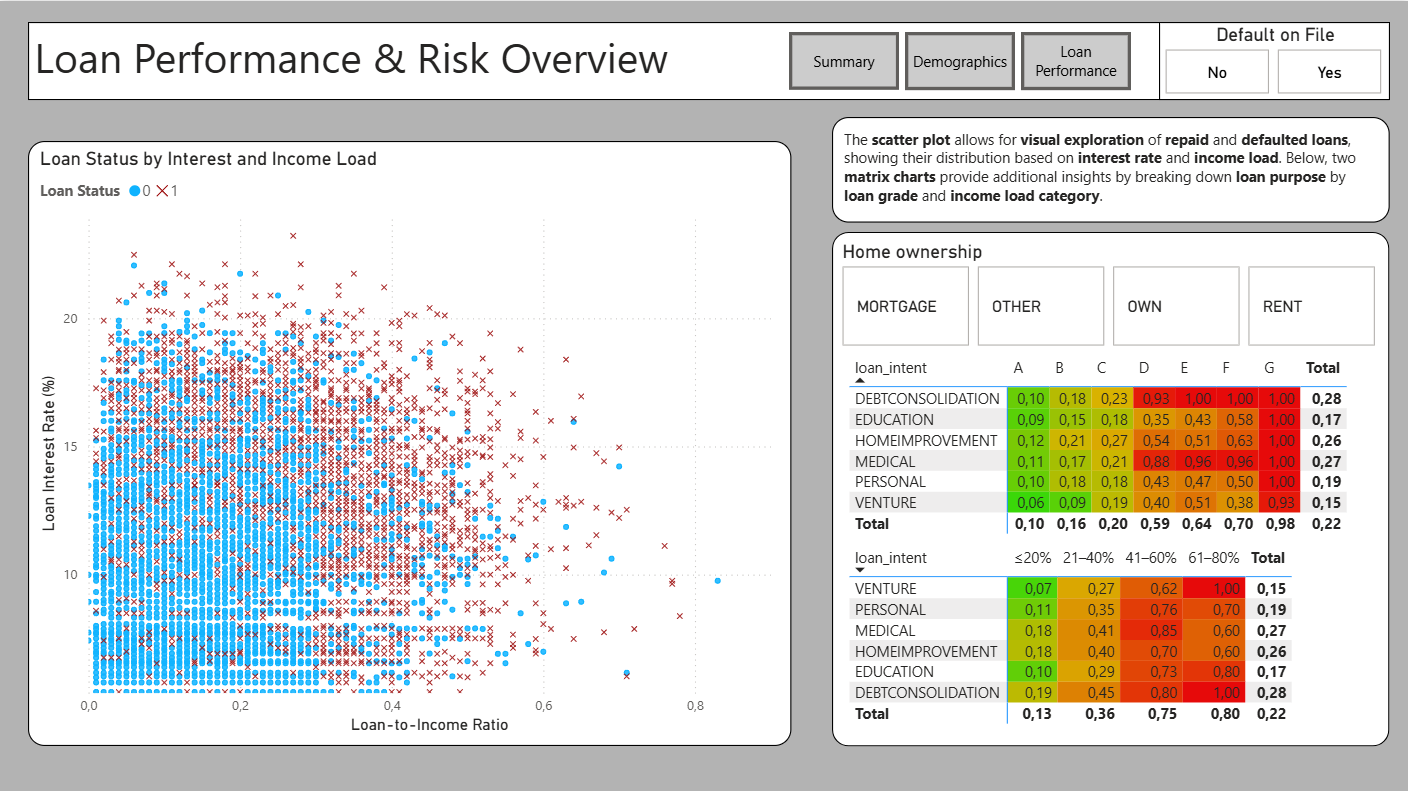

What the dashboard file says about the page in this screenshot:
{"tool":"powerbi","page":{"name":"3","canvas":[1280,720],"ordinal":2},"visuals":[{"type":"shape","box":[756.4,209.8,506.7,467.6],"z":0},{"type":"textbox","box":[25.8,18.7,1237.3,71.1],"z":1000},{"type":"advancedSlicerVisual","title":"Home ownership","fields":{"Values":["Table1.person_home_ownership"]},"box":[761,217,496,101],"z":2000},{"type":"scatterChart","title":"Loan Status by Interest and Income Load","fields":{"X":["Table1.loan_percent_income"],"Y":["Table1.loan_int_rate"],"Series":["Table1.loan_status"]},"box":[25.8,127.1,694.2,550.2],"z":3000},{"type":"pivotTable","fields":{"Rows":["Table1.loan_intent"],"Columns":["Table1.Income Load Category"],"Values":["Table1.Default Rate"]},"box":[767.1,490.7,484.4,174.2],"z":4000},{"type":"pivotTable","fields":{"Rows":["Table1.loan_intent"],"Columns":["Table1.loan_grade"],"Values":["Avg(Table1.loan_status)"]},"box":[767,318,484,172],"z":5000},{"type":"textbox","box":[756,105,507,96],"z":6000},{"type":"actionButton","box":[716.8,28.2,100.2,52.5],"z":7000},{"type":"actionButton","box":[822.9,27.9,100,52.9],"z":8000},{"type":"actionButton","box":[928.6,27.9,100,52.9],"z":9000},{"type":"advancedSlicerVisual","title":"Default on File","fields":{"Values":["Table1.Default on File Label"]},"box":[1053.3,18.7,209.8,71.1],"z":10000}]}

Visuals, with their boxes in screenshot pixels (x1, y1, x2, y2), scaled from the page's 1280x720 canvas onto the 1408x791 screenshot:
shape: box(832, 230, 1389, 744)
textbox: box(28, 21, 1389, 99)
"Home ownership" advancedSlicerVisual: box(837, 238, 1383, 349)
"Loan Status by Interest and Income Load" scatterChart: box(28, 140, 792, 744)
pivotTable - Table1.loan_intent x Table1.Income Load Category: box(844, 539, 1377, 730)
pivotTable - Table1.loan_intent x Table1.loan_grade: box(844, 349, 1376, 538)
textbox: box(832, 115, 1389, 221)
actionButton: box(788, 31, 899, 89)
actionButton: box(905, 31, 1015, 89)
actionButton: box(1021, 31, 1131, 89)
"Default on File" advancedSlicerVisual: box(1159, 21, 1389, 99)
